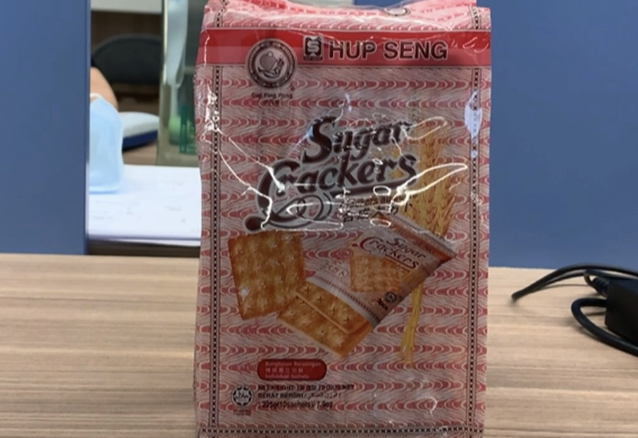crackers_150g: (221, 23, 473, 420)
